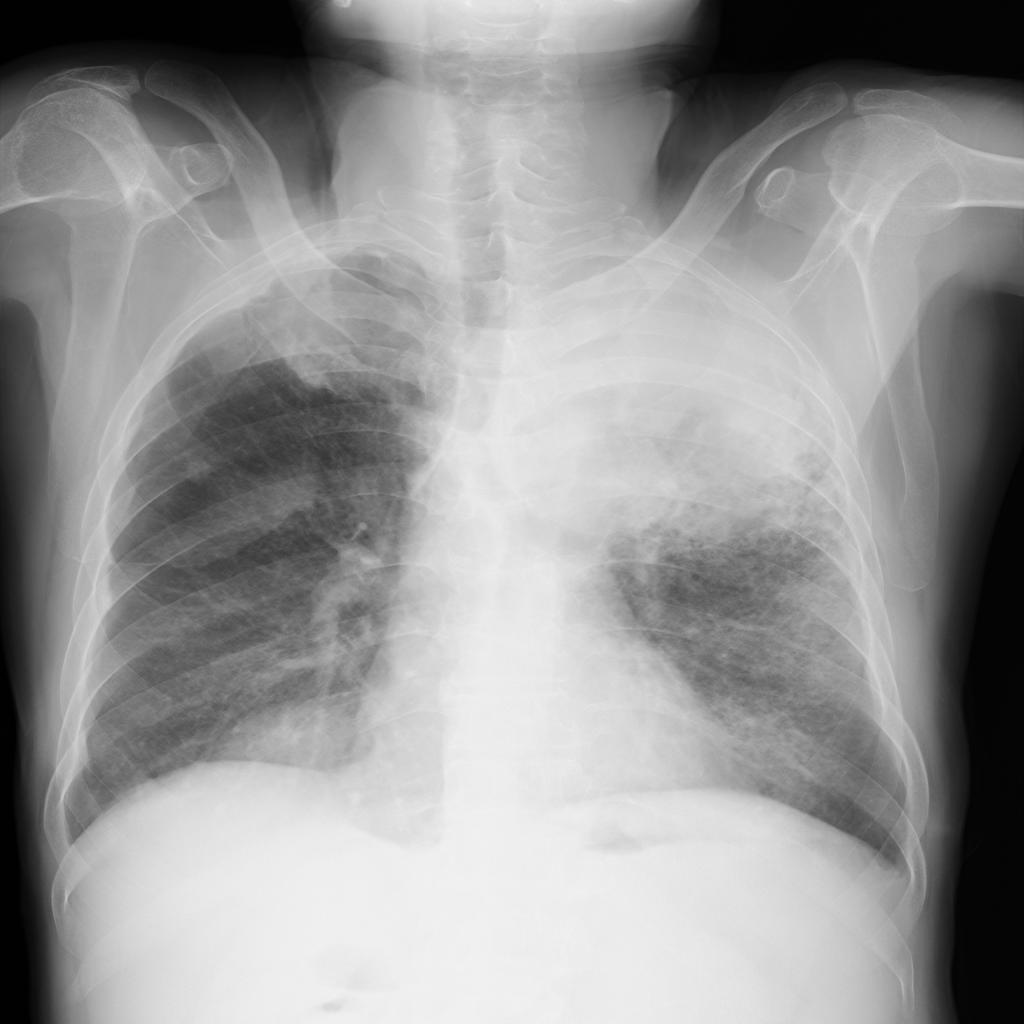Nodule: (523, 260, 831, 542), (223, 705, 356, 767)
